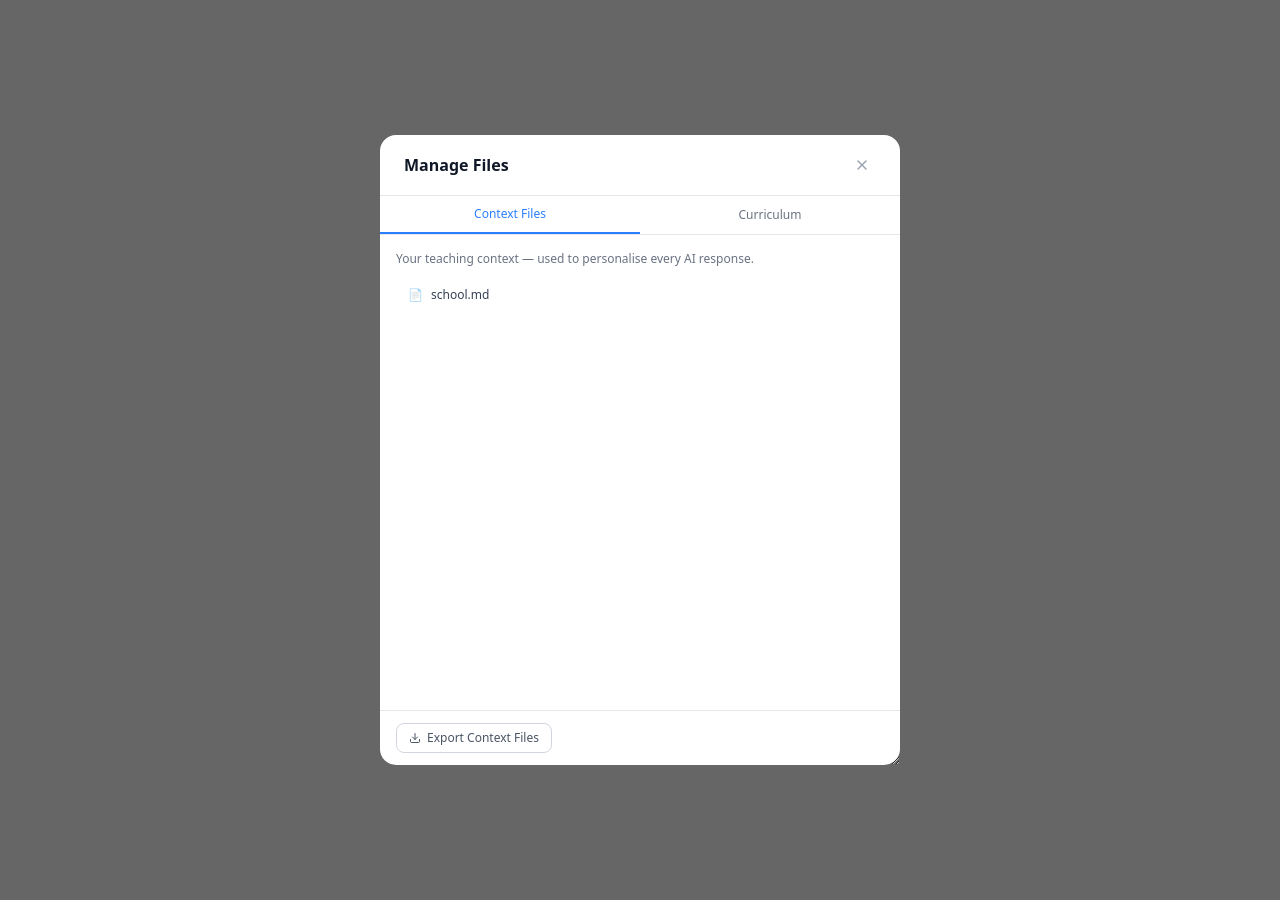
Test: ManageFilesModal › shows back button in preview and returns to file list
The image size is (1280, 900).
Click the button "📄 school.md" at (460, 294), box [396,279,884,311]
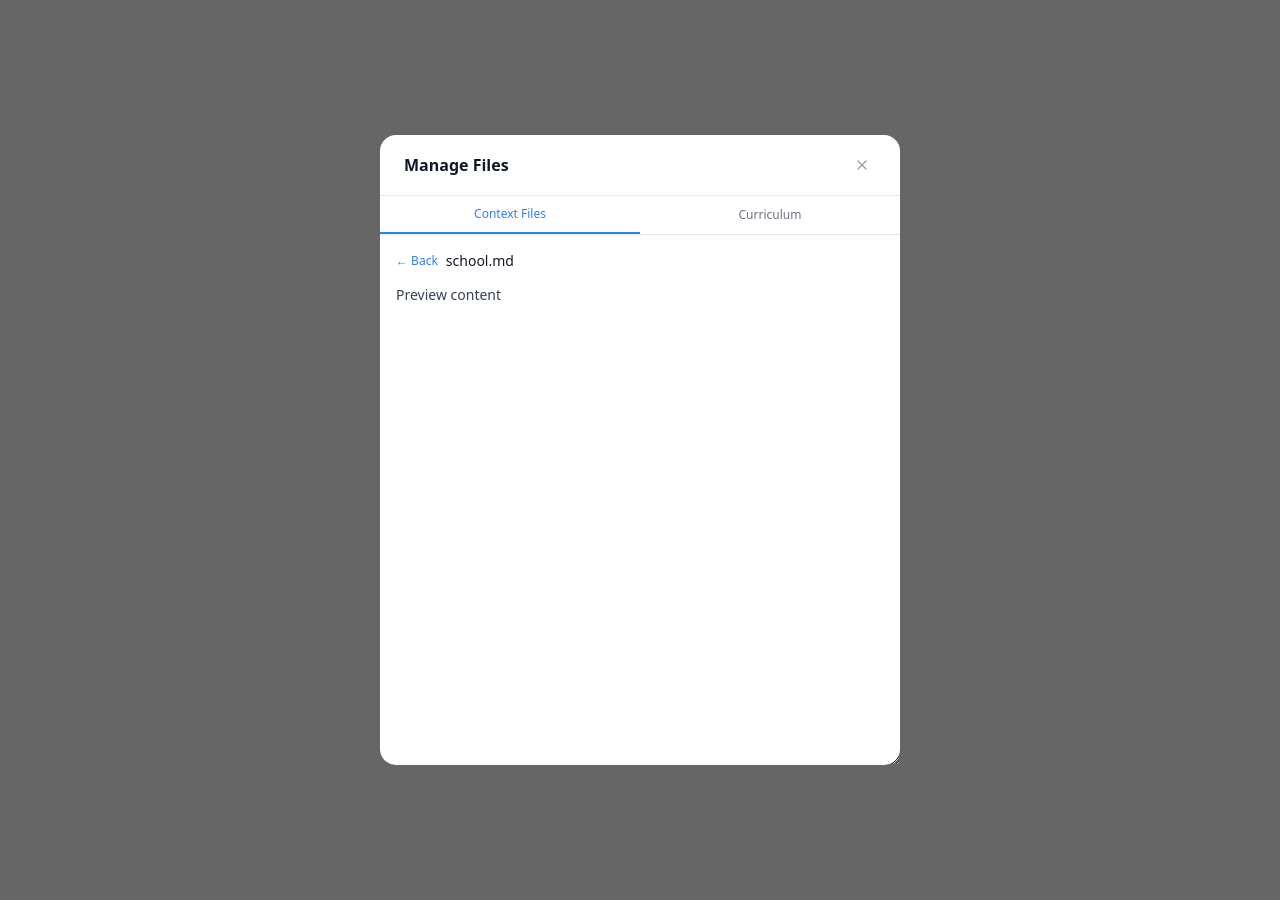
Expected: the text "Preview content" is shown, [396,285,501,304]
Click the button "← Back" at (417, 261), box [396,253,438,269]
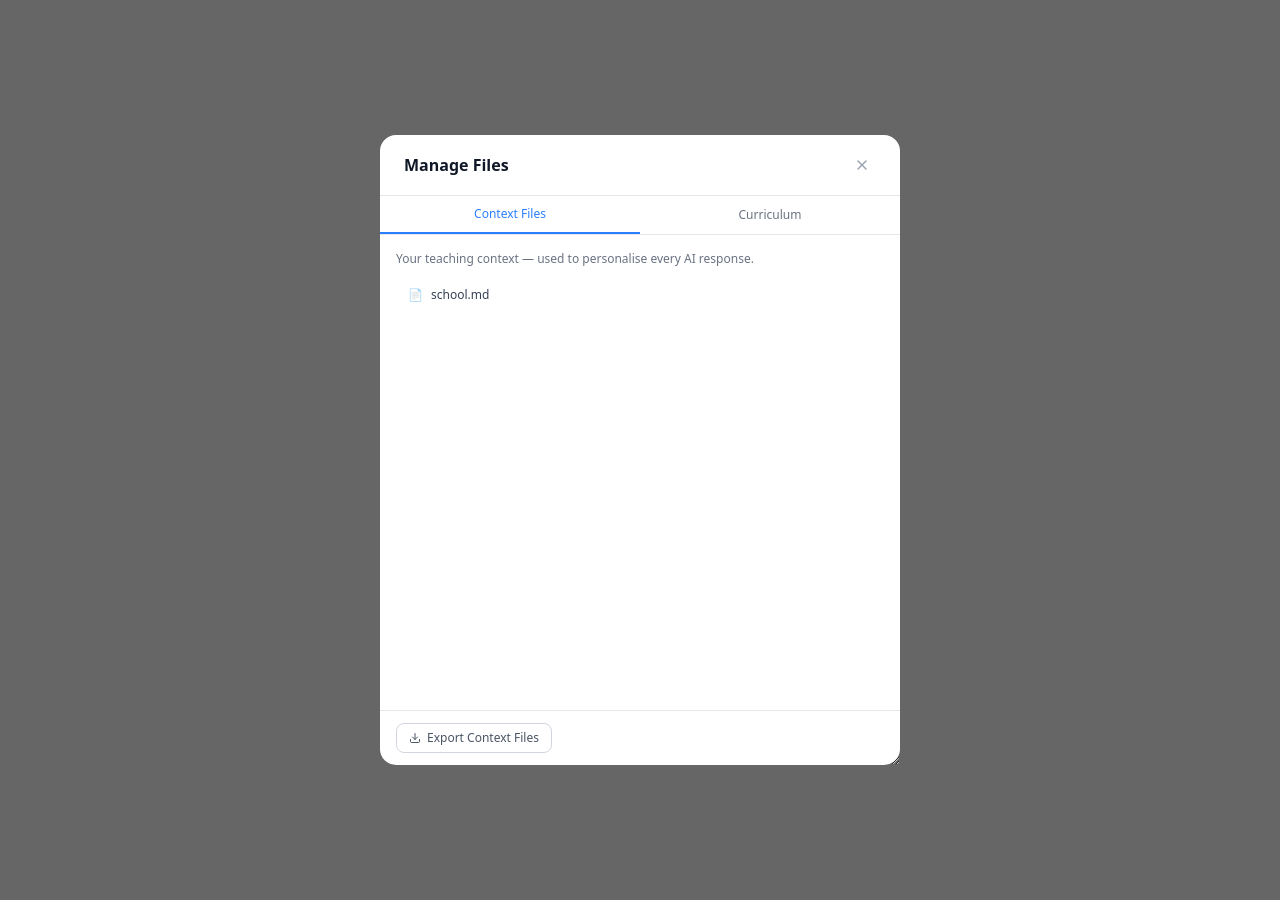
Expected: the button "📄 school.md" is shown, [396,279,884,311]
